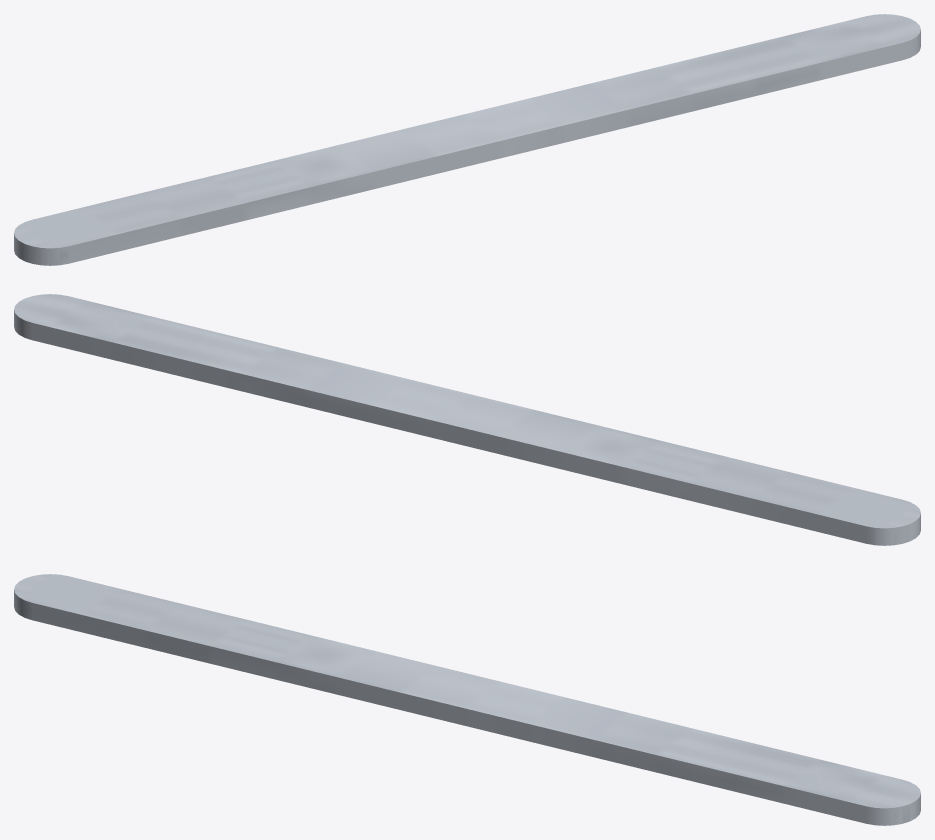
File: original-18.obj
3 renders of one model, top to bottom at view 1: azimuth 30°, elevation 25°; view 2: azimuth 150°, elevation 25°; view 3: azimuth 330°, elevation 25°, orthographic.
Visible parts, largest first — view 1: mesh7/mesh7-geometry#mesh7-geometry; view 2: mesh7/mesh7-geometry#mesh7-geometry; view 3: mesh7/mesh7-geometry#mesh7-geometry.
Part boxes in pixels (x1,y1,x2,y2): mesh7/mesh7-geometry#mesh7-geometry: (14,14,920,265); mesh7/mesh7-geometry#mesh7-geometry: (14,294,920,545); mesh7/mesh7-geometry#mesh7-geometry: (14,574,920,825).
Bounding box in the file's own units: 0.749 × 0.0139 × 0.0526.
